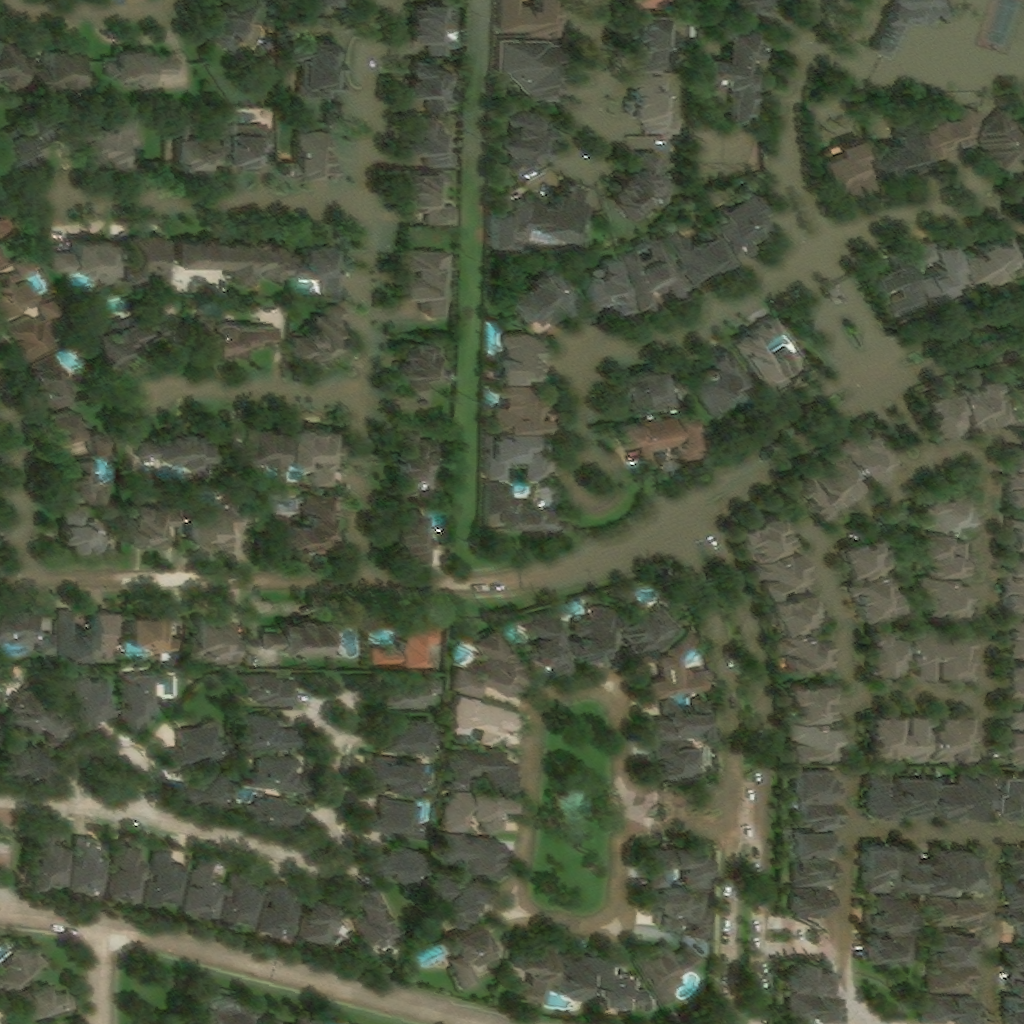major_damage: (627, 7, 681, 140), (698, 21, 762, 121), (175, 229, 292, 283), (734, 315, 808, 389), (796, 449, 864, 521), (871, 0, 950, 61), (617, 407, 702, 459), (609, 153, 674, 218), (690, 345, 748, 417), (872, 247, 928, 317), (870, 710, 932, 767), (919, 101, 983, 156), (873, 113, 929, 175), (820, 134, 879, 192), (966, 227, 1021, 287), (976, 105, 1022, 176), (909, 629, 974, 679), (292, 423, 342, 488), (848, 573, 909, 626), (201, 318, 279, 357), (740, 511, 799, 562), (293, 240, 344, 299), (841, 427, 897, 480), (233, 422, 288, 475), (294, 304, 341, 363), (757, 549, 809, 598), (963, 374, 1009, 429), (621, 365, 671, 415), (926, 386, 971, 441), (842, 534, 898, 578), (780, 630, 834, 675), (932, 240, 972, 300), (773, 589, 823, 636), (934, 711, 977, 765), (924, 532, 974, 578), (919, 575, 972, 618), (791, 717, 839, 762), (924, 491, 971, 533), (791, 681, 839, 722), (871, 625, 907, 675), (866, 841, 895, 895), (962, 769, 993, 819), (893, 841, 924, 889), (867, 769, 895, 820), (896, 773, 927, 819), (923, 841, 952, 890), (928, 778, 959, 821), (953, 843, 981, 885), (733, 0, 779, 23), (912, 242, 938, 269), (921, 277, 935, 291)
minor_damage: (490, 181, 589, 246), (451, 629, 526, 699), (646, 620, 708, 702), (623, 237, 693, 306), (711, 184, 774, 259), (508, 266, 580, 328), (635, 945, 705, 1008), (61, 113, 141, 164), (8, 686, 73, 746), (424, 874, 493, 930), (191, 604, 249, 670), (486, 482, 561, 533), (618, 607, 681, 667), (499, 38, 559, 101), (665, 229, 732, 285), (138, 427, 217, 473), (450, 692, 519, 744), (513, 935, 561, 1009), (503, 106, 553, 177), (108, 42, 190, 85), (292, 34, 343, 103), (486, 428, 548, 484), (449, 923, 497, 995), (9, 299, 64, 361), (264, 615, 341, 659), (203, 0, 265, 54), (278, 495, 336, 552), (349, 884, 399, 950), (404, 250, 452, 318), (521, 611, 573, 673), (595, 958, 653, 1012), (406, 169, 460, 227), (0, 606, 58, 658), (190, 505, 255, 551), (390, 427, 430, 499), (441, 833, 502, 880), (363, 842, 425, 888), (405, 115, 457, 169), (169, 721, 230, 767), (0, 111, 50, 167), (72, 674, 117, 736), (497, 380, 550, 432), (131, 613, 184, 665), (792, 765, 837, 826), (652, 740, 705, 791), (400, 339, 447, 396), (359, 798, 425, 838), (29, 353, 76, 409), (0, 259, 43, 320), (581, 257, 632, 308), (223, 120, 274, 170), (249, 754, 310, 795), (451, 750, 515, 789), (498, 0, 562, 39), (409, 2, 457, 54), (569, 605, 614, 660), (651, 701, 716, 739), (407, 57, 453, 110), (124, 675, 169, 729), (126, 502, 180, 547), (60, 510, 107, 560), (64, 458, 111, 508), (70, 232, 117, 282), (128, 232, 172, 285), (31, 43, 85, 85), (470, 786, 515, 835), (398, 622, 443, 671), (239, 715, 300, 750), (369, 758, 428, 794), (167, 773, 231, 806), (500, 333, 544, 381), (296, 130, 338, 179), (0, 30, 31, 95), (555, 944, 593, 997), (393, 510, 433, 560), (381, 718, 437, 752), (241, 675, 300, 707), (94, 318, 142, 357), (929, 893, 979, 930), (787, 989, 841, 1023), (924, 991, 980, 1023), (929, 925, 976, 963), (93, 609, 126, 663), (673, 846, 711, 891), (385, 680, 442, 710), (651, 885, 688, 929), (789, 957, 834, 993), (59, 611, 90, 663), (3, 739, 46, 774), (927, 966, 977, 996), (869, 896, 911, 930), (47, 405, 84, 443), (995, 771, 1022, 823), (651, 846, 686, 886), (794, 854, 836, 887), (790, 824, 836, 854), (869, 930, 908, 964), (255, 797, 308, 822), (789, 890, 834, 918), (179, 138, 217, 171), (687, 890, 712, 939), (1004, 551, 1022, 614), (443, 792, 471, 832), (205, 1005, 265, 1023), (1006, 444, 1022, 504), (1005, 616, 1022, 659), (1006, 661, 1022, 699), (88, 428, 108, 457), (372, 650, 404, 668), (50, 251, 73, 273), (1009, 513, 1022, 550), (370, 619, 402, 634), (166, 110, 190, 130), (1007, 907, 1022, 938), (1005, 940, 1022, 966), (1007, 994, 1022, 1023), (1008, 876, 1022, 906), (1013, 391, 1022, 437), (1009, 964, 1022, 993), (1008, 851, 1022, 876), (280, 160, 298, 177), (0, 245, 10, 273), (312, 0, 330, 15), (299, 1016, 314, 1023), (269, 1015, 280, 1023)
no_damage: (183, 856, 228, 923), (0, 947, 48, 1005), (258, 879, 301, 940), (145, 848, 188, 909), (33, 827, 73, 892), (106, 842, 147, 903), (223, 869, 266, 927), (21, 983, 76, 1023), (298, 893, 340, 945), (70, 835, 106, 895)
